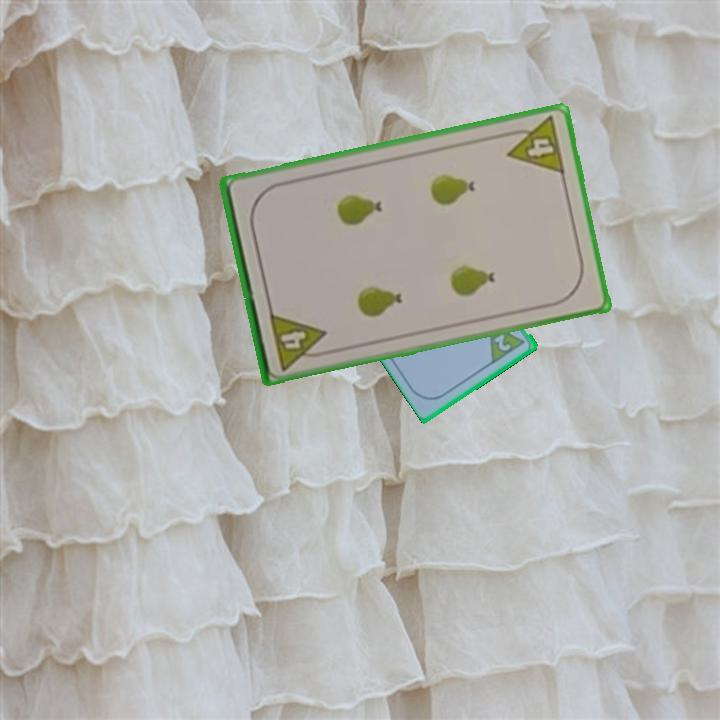2p: (491, 330, 514, 355)
4p: (500, 113, 568, 177), (266, 308, 332, 373)
